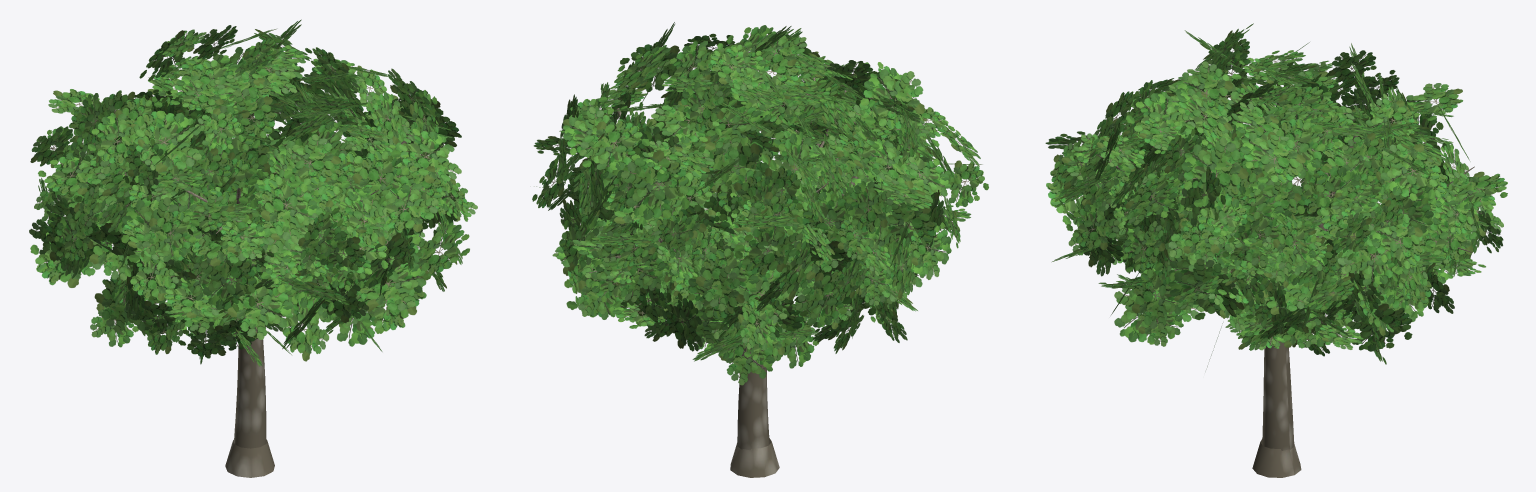
The model's file is chinor_0.glb.
The picture shows the model from 3 angles, left to right: view 1: azimuth 30°, elevation 25°; view 2: azimuth 150°, elevation 25°; view 3: azimuth 270°, elevation 25°; orthographic projection.
Visible parts, largest first — view 1: chinor_leaves, chinor_bark; view 2: chinor_leaves, chinor_bark; view 3: chinor_leaves, chinor_bark.
Boxes of the visible parts, box(x1,y1,x2,y2) form: chinor_leaves: box(29, 19, 477, 366); chinor_bark: box(91, 122, 412, 477); chinor_leaves: box(532, 22, 988, 385); chinor_bark: box(589, 73, 923, 477); chinor_leaves: box(1045, 23, 1507, 369); chinor_bark: box(1096, 89, 1482, 477).
Bounding box in the file's own units: 13.02 × 13.03 × 13.89.
2 materials, 2 textured.
